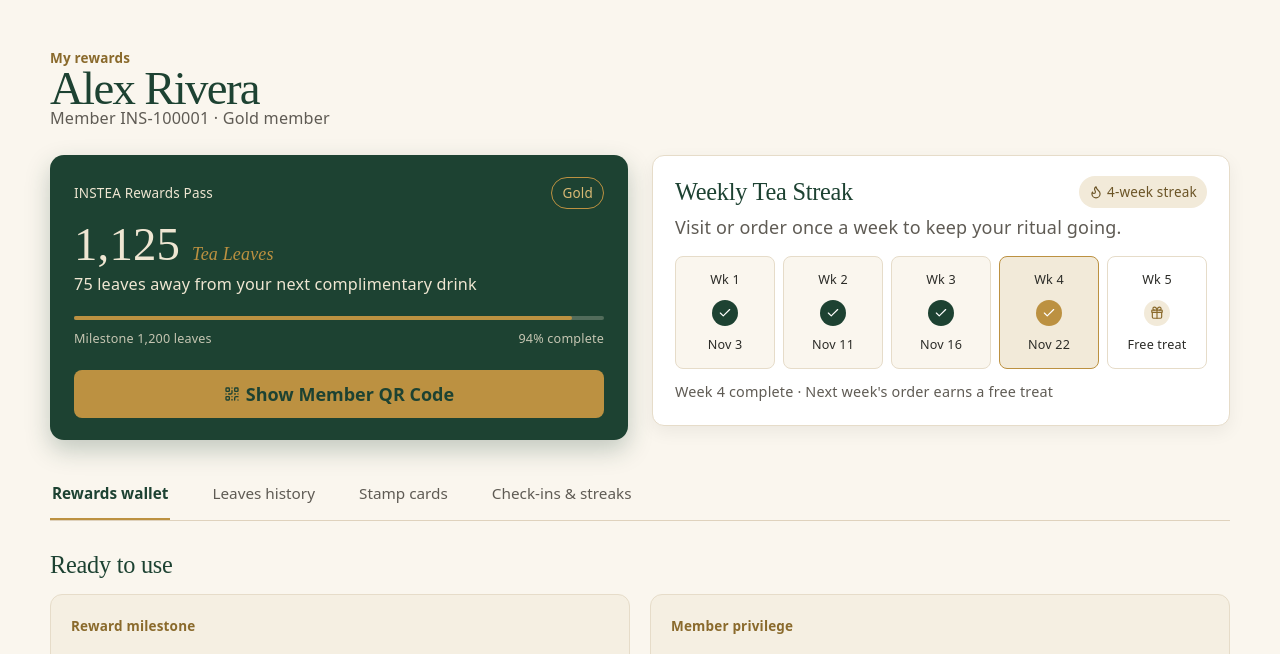
Test: RewardsPage › loads the customer leaves history from the service
Click the button "Leaves history" at (264, 500), box [210,480,317,520]
(page scrolled)
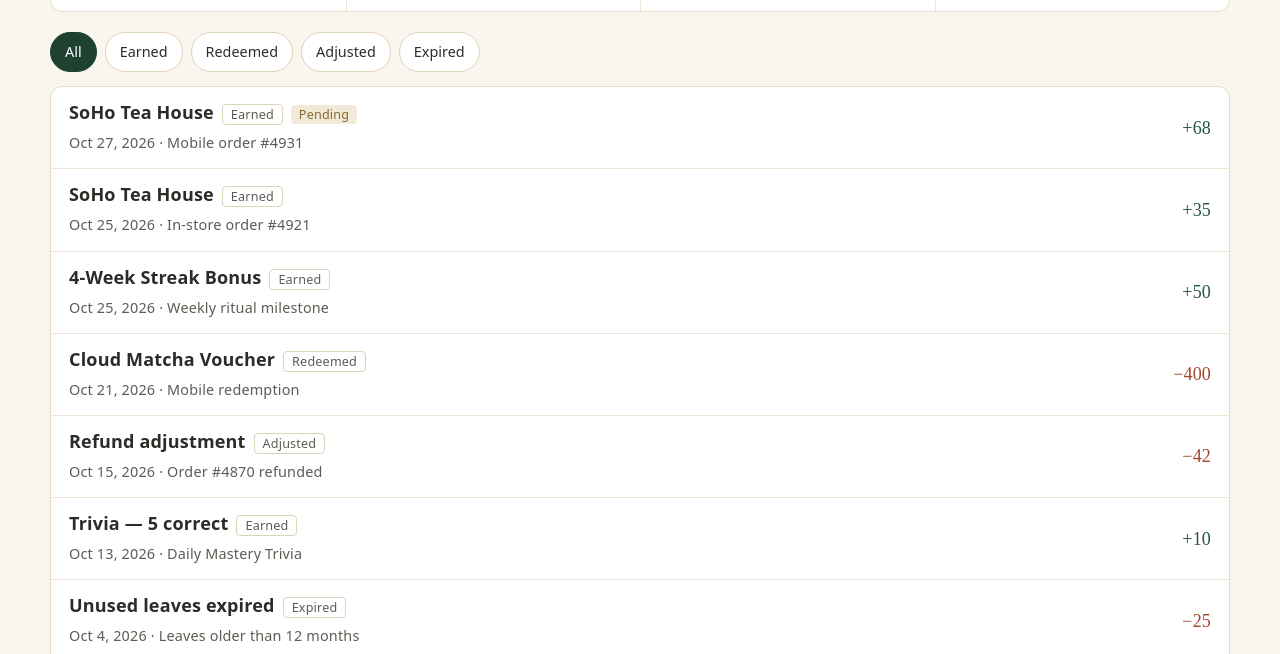
Result: the text "Cloud Matcha Voucher" is shown at [69,347,275,371]
